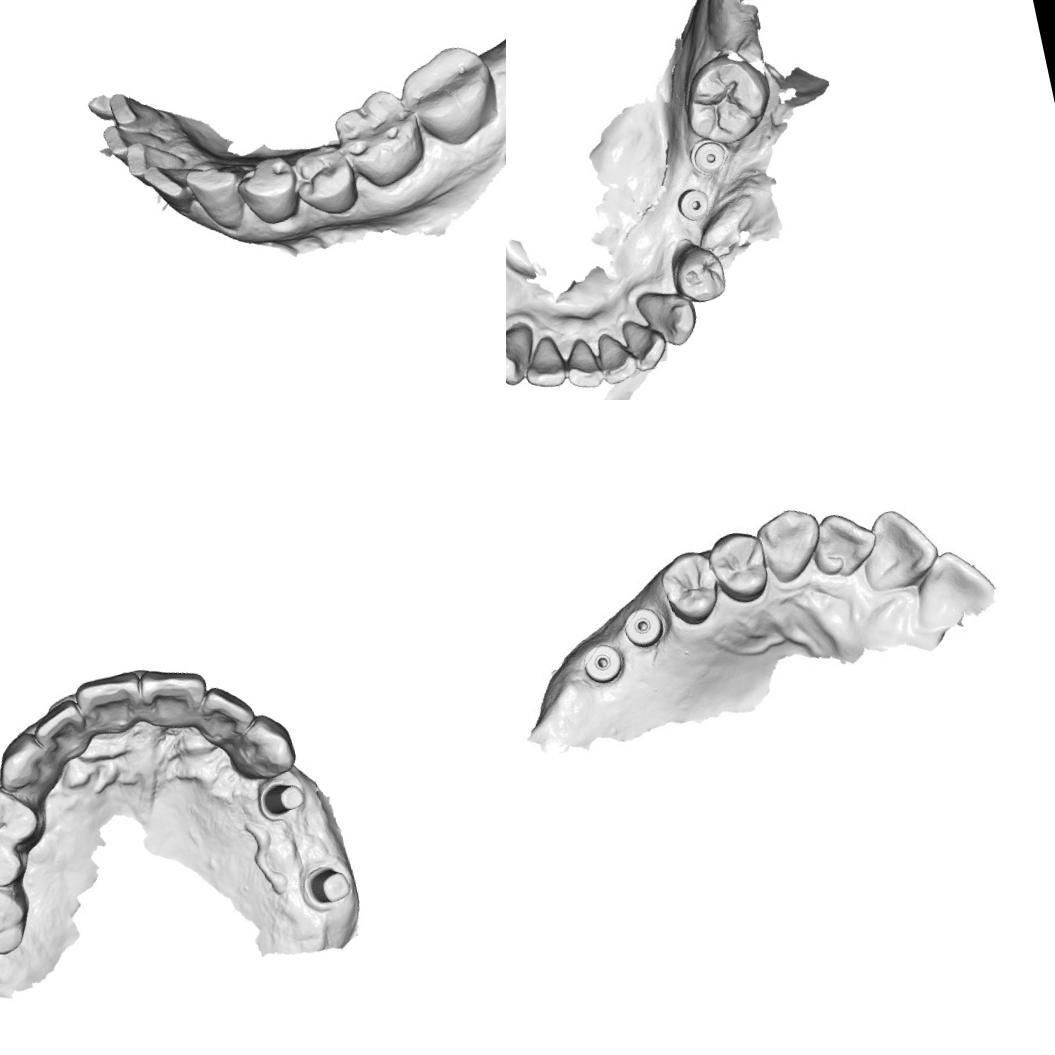abutment: (297, 858, 358, 914), (255, 775, 310, 824)
canine: (753, 501, 830, 589), (224, 706, 302, 785), (185, 160, 249, 237), (0, 727, 60, 806), (634, 283, 700, 353), (506, 319, 545, 390)
implant: (618, 598, 674, 656), (576, 634, 630, 690), (685, 133, 731, 182), (672, 181, 716, 224)
incisor: (898, 542, 1002, 637), (851, 500, 943, 596), (132, 656, 215, 732), (806, 505, 883, 580), (71, 666, 149, 740), (194, 676, 263, 750), (27, 696, 92, 769), (516, 330, 572, 394), (99, 112, 168, 161), (590, 327, 643, 390), (142, 158, 196, 219), (622, 314, 671, 374), (560, 336, 608, 394), (122, 136, 176, 185), (106, 86, 156, 132)
molar: (393, 39, 506, 156), (325, 82, 432, 194), (674, 45, 775, 152), (0, 869, 39, 966)
premolar: (654, 545, 727, 633), (704, 524, 777, 608), (233, 149, 306, 229), (293, 142, 365, 220), (669, 238, 730, 309), (0, 777, 44, 855), (0, 819, 29, 897)
